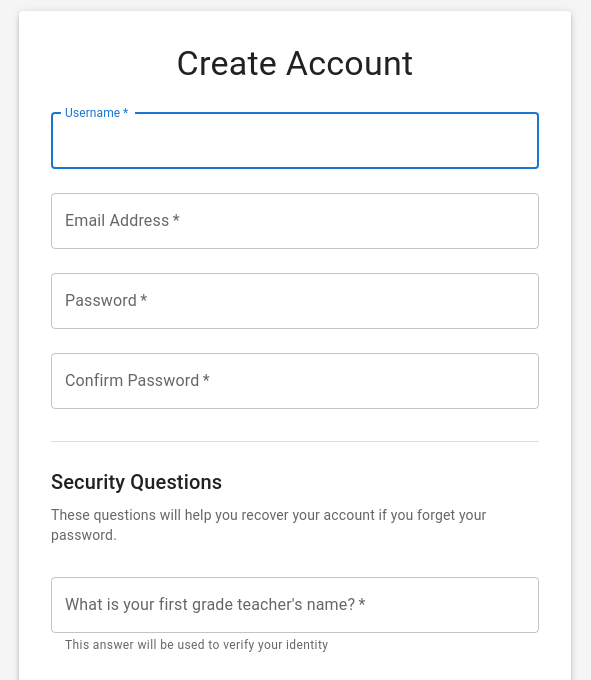
Register component › shows error for invalid email format
Type "testuser" into the field labelled "Username *".
click(295, 141); type("testuser")  # box [51, 113, 539, 169]
Type "invalid-email" into the field labelled "Email Address *".
click(295, 221); type("invalid-email")  # box [51, 193, 539, 249]
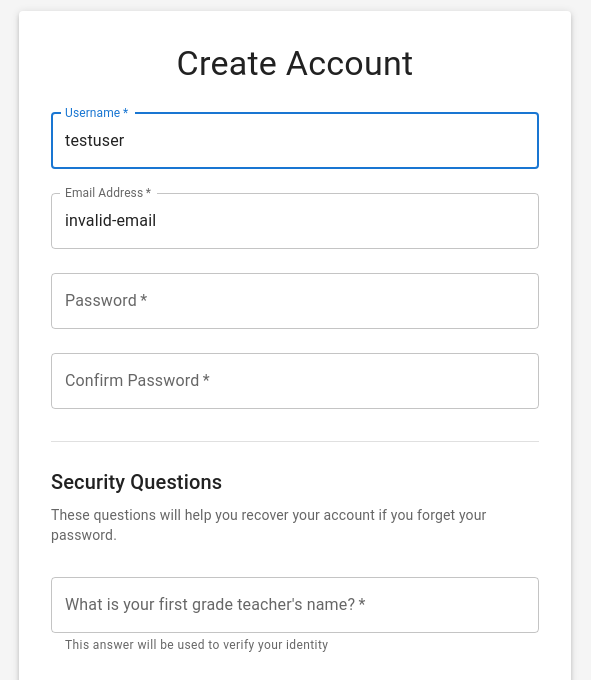
Type "Password123!" into the password field labelled "Password *".
click(295, 301); type("Password123!")  # box [51, 273, 539, 329]
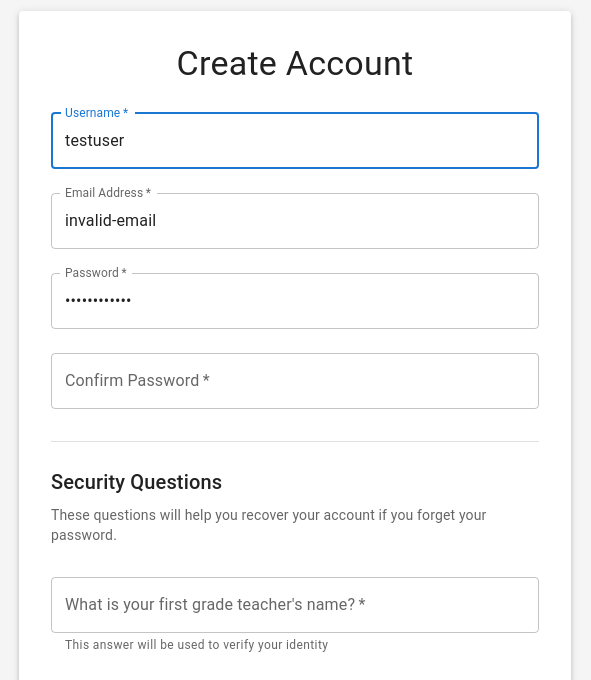
Type "Password123!" into the password field labelled "Confirm Password *".
click(295, 381); type("Password123!")  # box [51, 353, 539, 409]
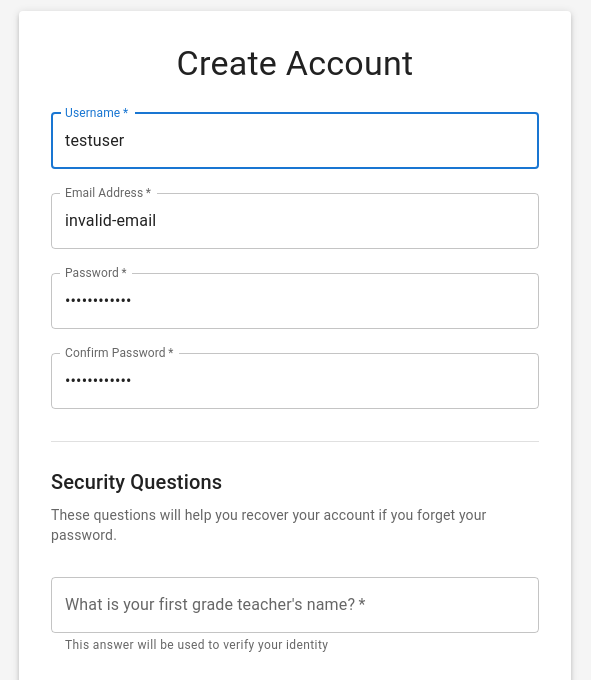
Type "Mrs. Smith" into the field labelled "What is your first grade teacher's name? *".
click(295, 605); type("Mrs. Smith")  # box [51, 577, 539, 633]
(page scrolled)
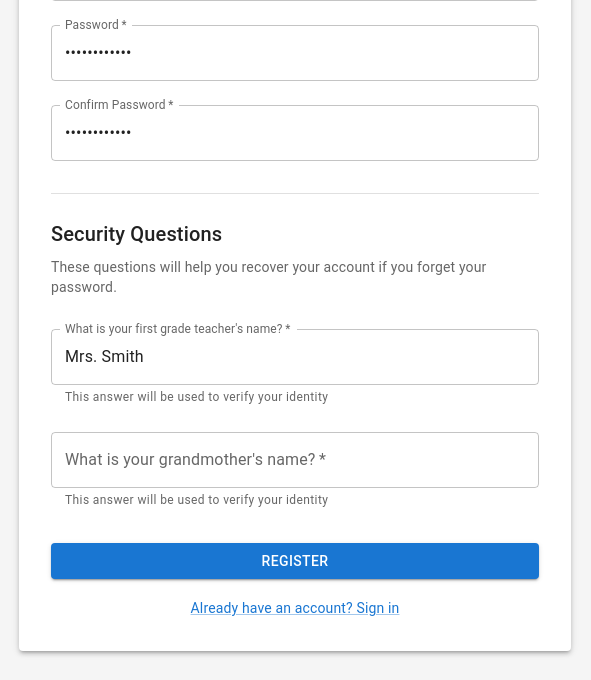
Type "Jane Doe" into the field labelled "What is your grandmother's name? *".
click(295, 460); type("Jane Doe")  # box [51, 432, 539, 488]
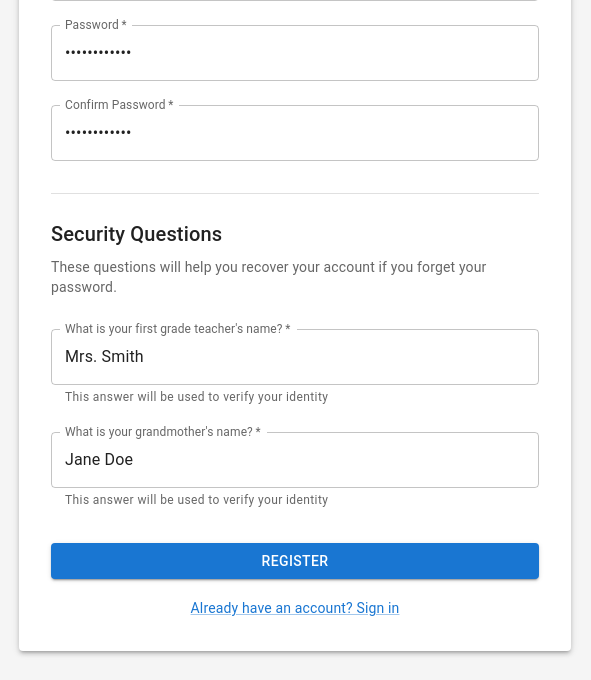
Click the button "Register".
click(295, 561)  # box [51, 543, 539, 579]
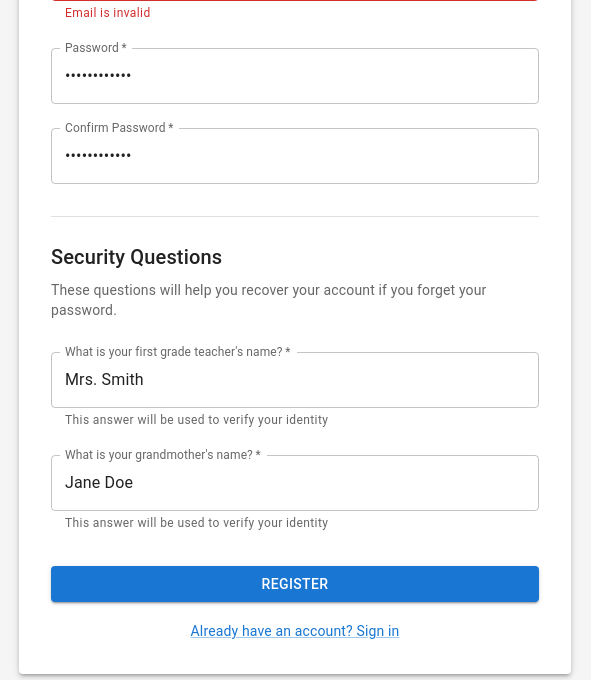
Result: the text with test id "email-helper-text" reads "Email is invalid" at [65, 6, 151, 20]
